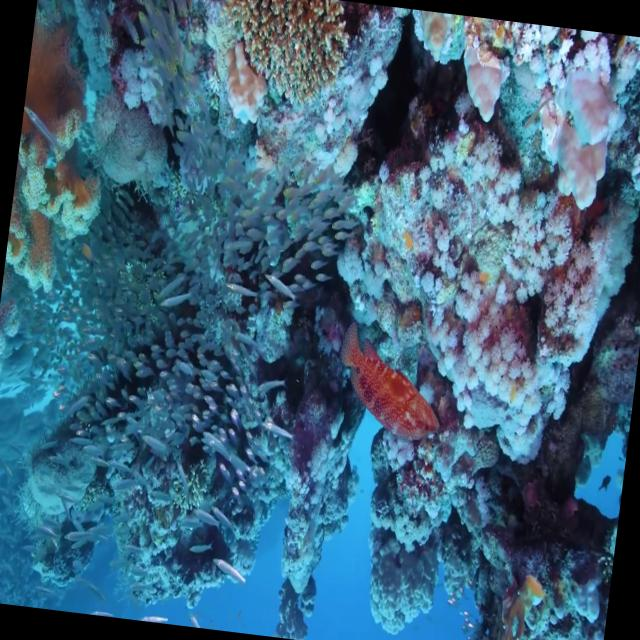fish: (320, 316, 458, 454)
